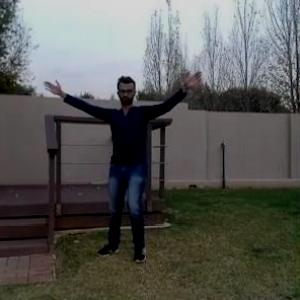takeoff: (49, 73, 202, 257)
